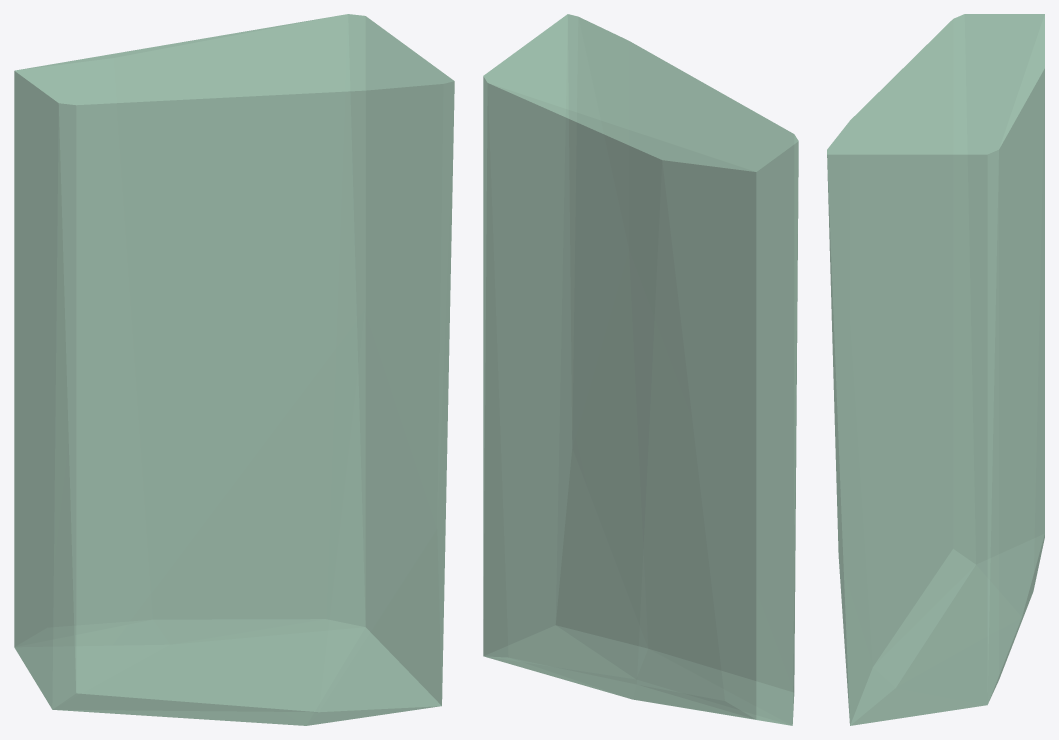
3 views of the same model, side by side, from view 1: azimuth 30°, elevation 25°; view 2: azimuth 150°, elevation 25°; view 3: azimuth 270°, elevation 25° (orthographic). The views are drawn at different scales.
Visible parts, largest first — view 1: Shape_IndexedFaceSet.018_Shape_IndexedFaceSet.16000; view 2: Shape_IndexedFaceSet.018_Shape_IndexedFaceSet.16000; view 3: Shape_IndexedFaceSet.018_Shape_IndexedFaceSet.16000.
Boxes of the visible parts, x1,y1,x2,y2 form: Shape_IndexedFaceSet.018_Shape_IndexedFaceSet.16000: (14, 14, 454, 725); Shape_IndexedFaceSet.018_Shape_IndexedFaceSet.16000: (483, 14, 798, 725); Shape_IndexedFaceSet.018_Shape_IndexedFaceSet.16000: (827, 14, 1044, 725).
Bounding box in the file's own units: 0.1002 × 0.1935 × 0.0657.
